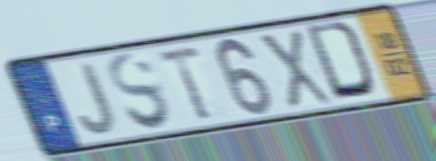6: (215, 35, 274, 119)
D: (302, 18, 382, 103)
J: (76, 60, 119, 138)
S: (106, 50, 175, 133)
T: (155, 43, 215, 124)
X: (254, 27, 336, 111)
